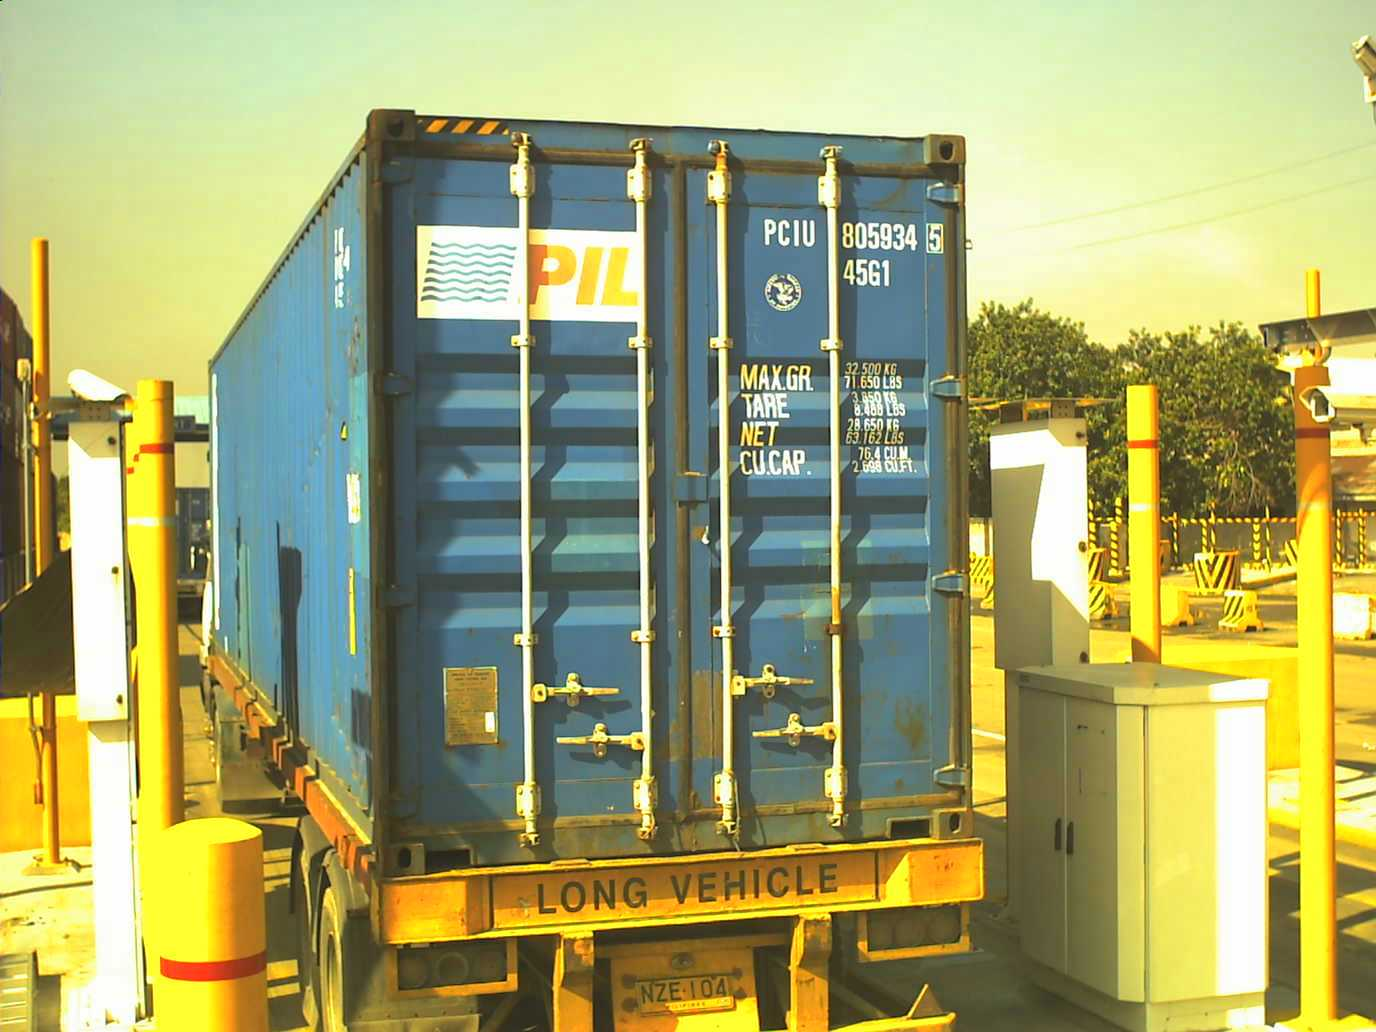container_door: (369, 112, 975, 857)
